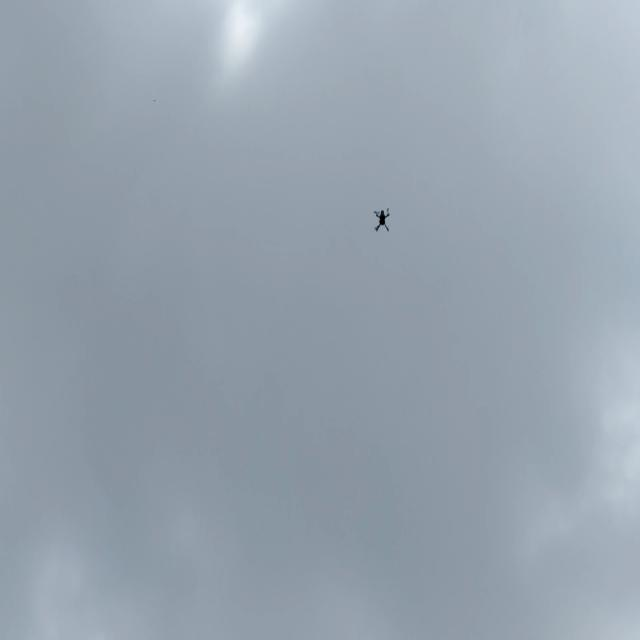drone: (371, 206, 395, 234)
